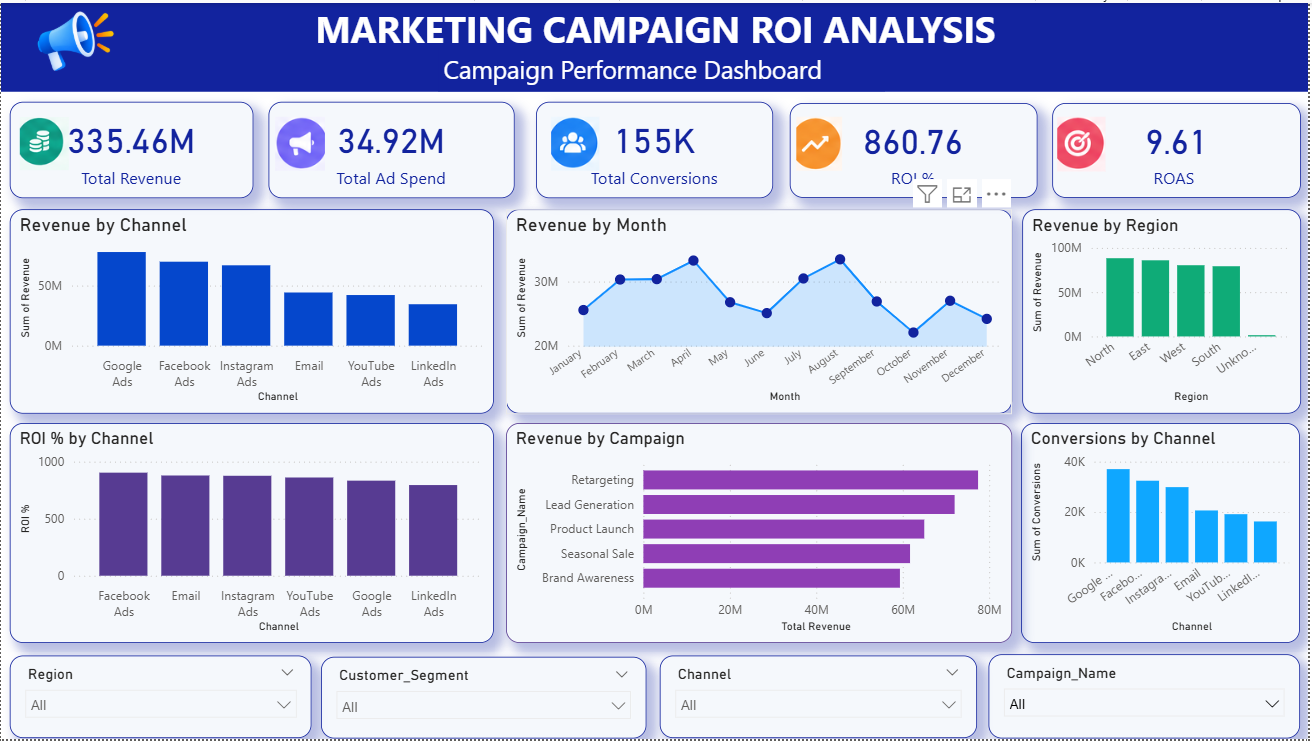

What the dashboard file says about the page in this screenshot:
{"tool":"powerbi","page":{"name":"Page 1","canvas":[1280,720],"ordinal":0},"visuals":[{"type":"shape","box":[0,0,1280.3,86.8],"z":0},{"type":"textbox","box":[428,44,436.6,42.8],"z":1000},{"type":"image","box":[0,0,143.1,74.6],"z":2000},{"type":"card","fields":{"Values":["marketing_campaign_roi_cleaned.Total Revenue"]},"box":[8.6,96.6,238.5,94.2],"z":3000},{"type":"image","box":[0,84.4,84.4,106.4],"z":4000},{"type":"card","fields":{"Values":["marketing_campaign_roi_cleaned.Total Ad Spend"]},"box":[261.7,96.6,240.9,94.2],"z":5000},{"type":"image","box":[261.7,111.3,61.1,52.6],"z":6000},{"type":"card","fields":{"Values":["marketing_campaign_roi_cleaned.Total Conversions"]},"box":[523.4,96.6,232.3,94.2],"z":7000},{"type":"card","fields":{"Values":["marketing_campaign_roi_cleaned.ROI %"]},"box":[771.6,97.8,242.1,92.9],"z":8000},{"type":"card","fields":{"Values":["marketing_campaign_roi_cleaned.ROAS MEASURE"]},"box":[1028.4,97.8,243.3,92.9],"z":9000},{"type":"image","box":[522.1,111.3,79.5,52.6],"z":10000},{"type":"image","box":[771.6,111.3,57.5,52.6],"z":11000},{"type":"image","box":[989.3,111.3,134.5,53.8],"z":12000},{"type":"clusteredColumnChart","title":" Revenue by Channel","fields":{"Y":["Sum(marketing_campaign_roi_cleaned.Revenue)"],"Category":["marketing_campaign_roi_cleaned.Channel"]},"box":[8,202.3,473.8,199.6],"z":13000},{"type":"lineChart","title":"Revenue by Month","fields":{"Category":["marketing_campaign_roi_cleaned.Month.Variation.Date Hierarchy.Month"],"Y":["Sum(marketing_campaign_roi_cleaned.Revenue)"]},"box":[493.7,202.3,495.1,199.6],"z":14000},{"type":"clusteredColumnChart","title":"Revenue by Region","fields":{"Y":["marketing_campaign_roi_cleaned.Total Revenue"],"Category":["marketing_campaign_roi_cleaned.Region"]},"box":[999.5,202.3,272.8,199.6],"z":15000},{"type":"clusteredColumnChart","fields":{"Y":["marketing_campaign_roi_cleaned.ROI %"],"Category":["marketing_campaign_roi_cleaned.Channel"]},"box":[8,411.2,473.8,215.6],"z":16000},{"type":"clusteredColumnChart","title":" Conversions by Channel","fields":{"Y":["Sum(marketing_campaign_roi_cleaned.Conversions)"],"Category":["marketing_campaign_roi_cleaned.Channel"]},"box":[998.1,411.2,272.8,215.6],"z":17000},{"type":"clusteredBarChart","title":"Revenue by Campaign","fields":{"Y":["marketing_campaign_roi_cleaned.Total Revenue"],"Category":["marketing_campaign_roi_cleaned.Campaign_Name"]},"box":[493.7,411.2,495.1,215.6],"z":18000},{"type":"slicer","fields":{"Values":["marketing_campaign_roi_cleaned.Region"]},"box":[8,638.8,295.4,81.2],"z":19000},{"type":"slicer","fields":{"Values":["marketing_campaign_roi_cleaned.Customer_Segment"]},"box":[312.7,640.1,318.1,79.9],"z":20000},{"type":"slicer","fields":{"Values":["marketing_campaign_roi_cleaned.Channel"]},"box":[644.1,638.8,310.1,81.2],"z":21000},{"type":"slicer","fields":{"Values":["marketing_campaign_roi_cleaned.Campaign_Name"]},"box":[966.2,637.5,304.8,82.5],"z":22000}]}

Visuals, with their boxes in screenshot pixels (x1, y1, x2, y2), scaled from the page's 1280x720 canvas onto the 1312x746 screenshot:
shape: <bbox>0, 0, 1311, 90</bbox>
textbox: <bbox>439, 46, 886, 90</bbox>
image: <bbox>0, 0, 147, 77</bbox>
card - marketing_campaign_roi_cleaned.Total Revenue: <bbox>9, 100, 253, 198</bbox>
image: <bbox>0, 87, 87, 198</bbox>
card - marketing_campaign_roi_cleaned.Total Ad Spend: <bbox>268, 100, 515, 198</bbox>
image: <bbox>268, 115, 331, 170</bbox>
card - marketing_campaign_roi_cleaned.Total Conversions: <bbox>536, 100, 775, 198</bbox>
card - marketing_campaign_roi_cleaned.ROI %: <bbox>791, 101, 1039, 198</bbox>
card - marketing_campaign_roi_cleaned.ROAS MEASURE: <bbox>1054, 101, 1303, 198</bbox>
image: <bbox>535, 115, 617, 170</bbox>
image: <bbox>791, 115, 850, 170</bbox>
image: <bbox>1014, 115, 1152, 171</bbox>
" Revenue by Channel" clusteredColumnChart: <bbox>8, 210, 494, 416</bbox>
"Revenue by Month" lineChart: <bbox>506, 210, 1014, 416</bbox>
"Revenue by Region" clusteredColumnChart: <bbox>1024, 210, 1304, 416</bbox>
clusteredColumnChart - marketing_campaign_roi_cleaned.ROI % x marketing_campaign_roi_cleaned.Channel: <bbox>8, 426, 494, 649</bbox>
" Conversions by Channel" clusteredColumnChart: <bbox>1023, 426, 1303, 649</bbox>
"Revenue by Campaign" clusteredBarChart: <bbox>506, 426, 1014, 649</bbox>
slicer - marketing_campaign_roi_cleaned.Region: <bbox>8, 662, 311, 745</bbox>
slicer - marketing_campaign_roi_cleaned.Customer_Segment: <bbox>321, 663, 647, 745</bbox>
slicer - marketing_campaign_roi_cleaned.Channel: <bbox>660, 662, 978, 745</bbox>
slicer - marketing_campaign_roi_cleaned.Campaign_Name: <bbox>990, 661, 1303, 745</bbox>
